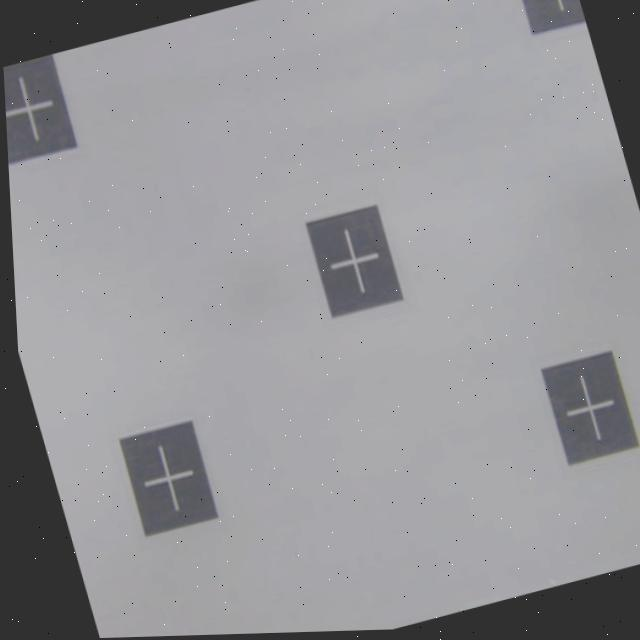dot: (115, 418, 220, 537), (301, 200, 404, 317), (538, 347, 637, 464), (3, 52, 76, 161), (509, 0, 587, 37)
